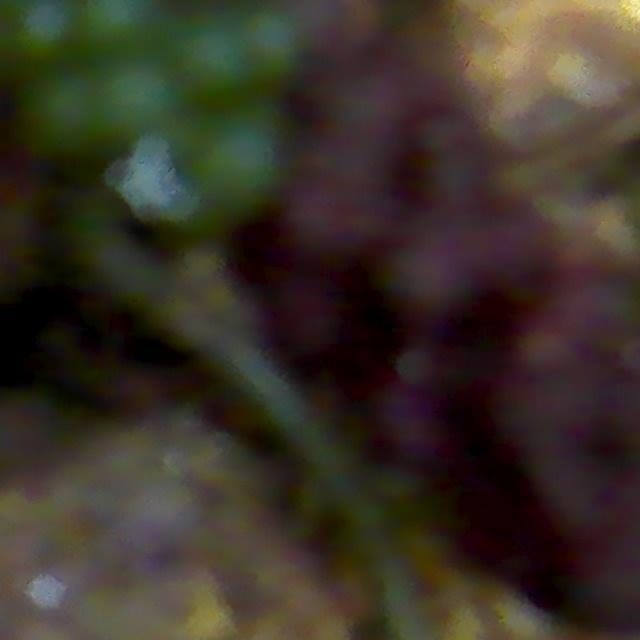SeaGrape: (196, 111, 286, 205), (24, 69, 110, 155), (97, 54, 181, 136), (175, 17, 256, 96), (237, 4, 305, 77), (80, 0, 159, 52), (12, 0, 79, 58)
